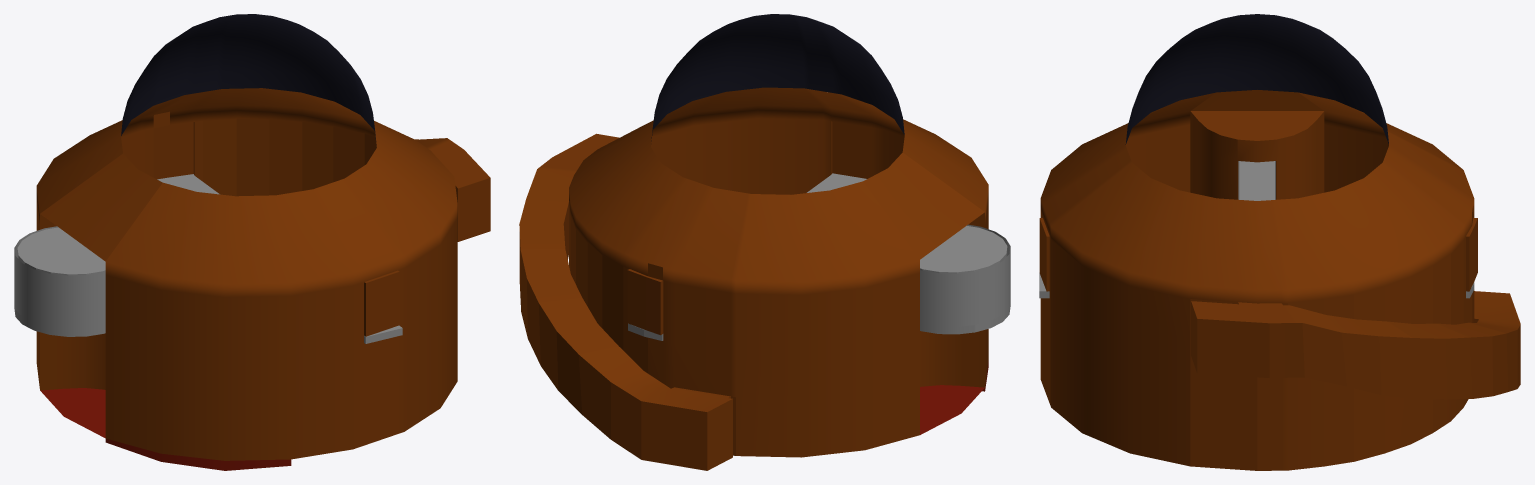
Rendered from Level1.1.fbx.
The picture shows the model from 3 angles, left to right: view 1: azimuth 30°, elevation 25°; view 2: azimuth 150°, elevation 25°; view 3: azimuth 270°, elevation 25°; orthographic projection. The views are drawn at different scales.
Visible parts, largest first — view 1: polySurface3, pSphere1, pCylinder4, pCylinder2, polySurface4, pCylinder3; view 2: polySurface3, pSphere1, pCylinder4, pCylinder2, polySurface4, pCylinder3; view 3: polySurface3, pSphere1, pCylinder2, pCylinder4.
Boxes of the visible parts, left/top/right/bottom form: polySurface3: left=36, top=88, right=490, bottom=460; pSphere1: left=121, top=14, right=376, bottom=144; pCylinder4: left=14, top=226, right=105, bottom=336; pCylinder2: left=40, top=214, right=105, bottom=390; polySurface4: left=40, top=388, right=291, bottom=470; pCylinder3: left=160, top=175, right=402, bottom=343; polySurface3: left=519, top=87, right=988, bottom=470; pSphere1: left=651, top=14, right=904, bottom=141; pCylinder4: left=920, top=224, right=1010, bottom=334; pCylinder2: left=920, top=212, right=984, bottom=387; polySurface4: left=920, top=360, right=988, bottom=434; pCylinder3: left=628, top=174, right=864, bottom=340; polySurface3: left=1039, top=90, right=1520, bottom=470; pSphere1: left=1125, top=14, right=1388, bottom=144; pCylinder2: left=1190, top=111, right=1324, bottom=199; pCylinder4: left=1238, top=161, right=1275, bottom=200.
Bounding box in the file's own units: 123 × 93.34 × 112.
